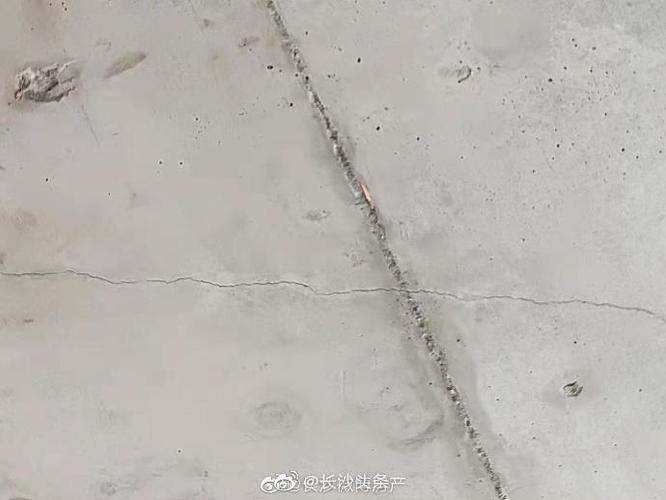Crack: (1, 268, 666, 324)
Spalling: (267, 1, 511, 500), (264, 36, 666, 245), (13, 60, 81, 103), (561, 379, 585, 399)
